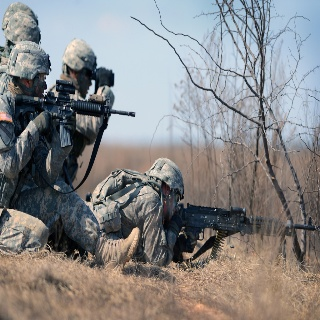rifle: (14, 78, 136, 151), (172, 203, 317, 241)
